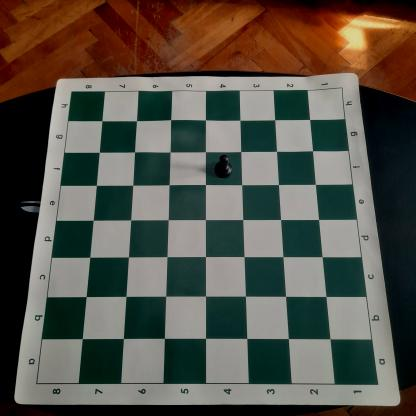black-pawn: (212, 154, 235, 179)
